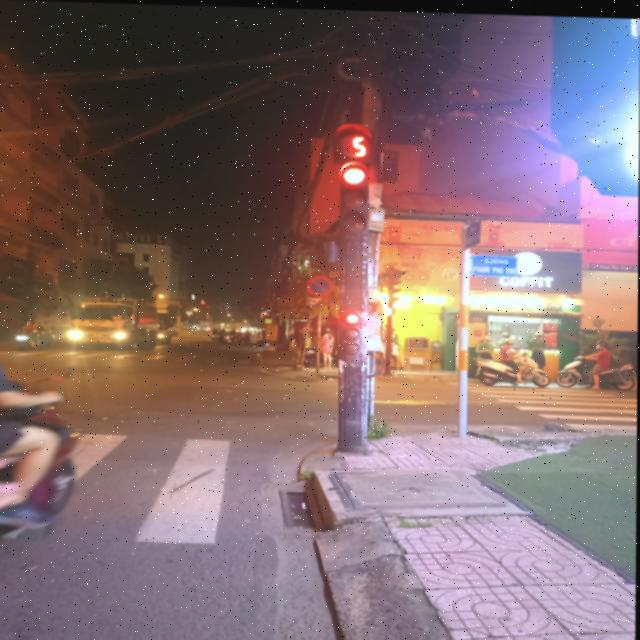Red: (332, 154, 376, 237), (338, 301, 366, 354)
